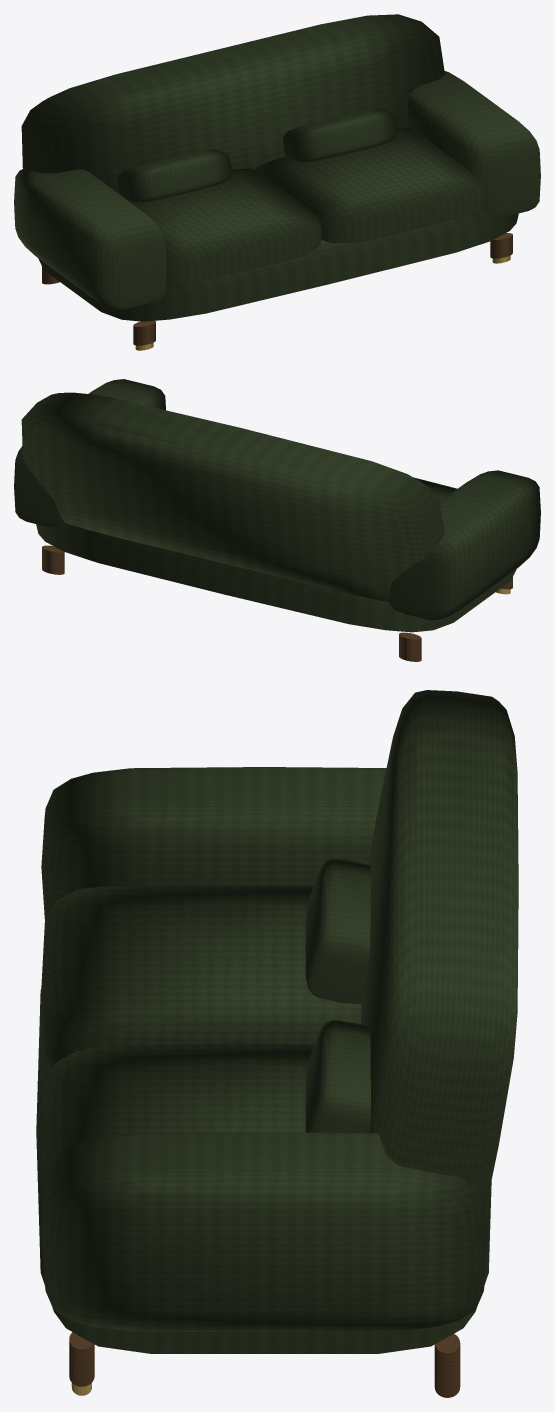
The picture shows the model from 3 angles, top to bottom: view 1: azimuth 30°, elevation 25°; view 2: azimuth 150°, elevation 25°; view 3: azimuth 270°, elevation 25°; orthographic projection. The views are drawn at different scales.
Parts seen in each view (by area): view 1: 2 backrest, 6 seat_cushion_right, 3 left_armrest, 5 seat_cushion_left, 1 base_frame, 4 right_armrest, 7 bolster_cushion_left, 8 bolster_cushion_right, 9 front_left_leg, 10 front_right_leg; view 2: 2 backrest, 3 left_armrest, 1 base_frame, 4 right_armrest, 13 back_left_leg, 14 back_right_leg, 5 seat_cushion_left; view 3: 4 right_armrest, 2 backrest, 5 seat_cushion_left, 3 left_armrest, 6 seat_cushion_right, 1 base_frame, 7 bolster_cushion_left, 8 bolster_cushion_right, 14 back_right_leg, 10 front_right_leg.
Part boxes in pixels (box(x1,y1,x2,y2)): 2 backrest: box(21, 14, 444, 194); 6 seat_cushion_right: box(254, 127, 486, 243); 3 left_armrest: box(14, 167, 166, 309); 5 seat_cushion_left: box(129, 168, 321, 283); 1 base_frame: box(38, 208, 518, 321); 4 right_armrest: box(408, 70, 540, 216); 7 bolster_cushion_left: box(117, 149, 231, 202); 8 bolster_cushion_right: box(283, 109, 396, 162); 9 front_left_leg: box(133, 320, 155, 345); 10 front_right_leg: box(490, 233, 512, 258); 2 backrest: box(21, 392, 444, 602); 3 left_armrest: box(389, 470, 540, 620); 1 base_frame: box(36, 523, 516, 632); 4 right_armrest: box(14, 379, 165, 527); 13 back_left_leg: box(399, 632, 421, 661); 14 back_right_leg: box(42, 545, 64, 574); 5 seat_cushion_left: box(413, 477, 457, 501); 4 right_armrest: box(41, 1132, 487, 1332); 2 backrest: box(361, 690, 518, 1204); 5 seat_cushion_left: box(41, 885, 361, 1067); 3 left_armrest: box(41, 767, 386, 918); 6 seat_cushion_right: box(41, 1043, 314, 1194); 1 base_frame: box(36, 989, 491, 1353); 7 bolster_cushion_left: box(305, 858, 370, 1003); 8 bolster_cushion_right: box(305, 1020, 370, 1133); 14 back_right_leg: box(434, 1334, 460, 1397); 10 front_right_leg: box(69, 1332, 94, 1386).
Bounding box in the file's own units: 2.5 × 1 × 1.2.
3 materials, 2 textured.
